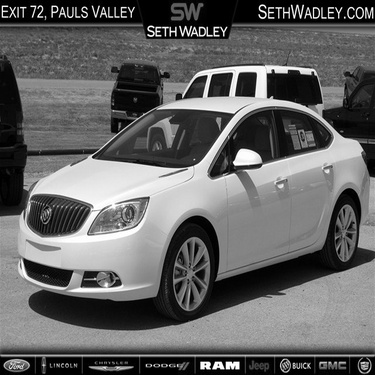car: (12, 93, 368, 316), (170, 57, 331, 135), (316, 59, 373, 174), (100, 46, 169, 138), (1, 40, 21, 217), (342, 48, 368, 104)
